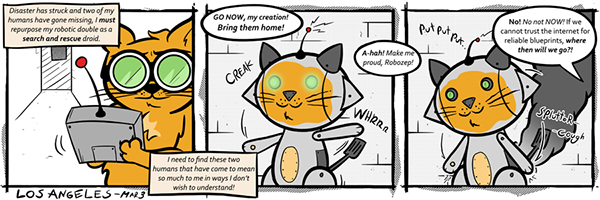cat: (240, 45, 370, 186), (424, 40, 539, 194), (97, 20, 196, 183)
dog: (501, 15, 595, 175)
